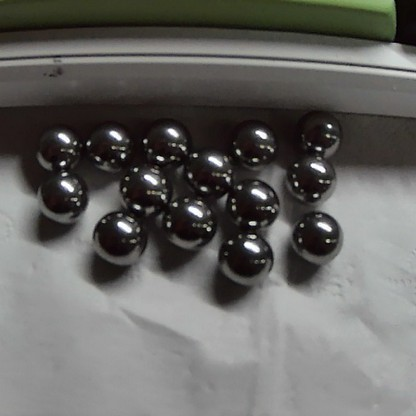ironball: (83, 211, 147, 270), (81, 112, 138, 171), (224, 178, 280, 229), (221, 229, 274, 281), (140, 113, 195, 163), (291, 206, 340, 260), (31, 122, 82, 173), (162, 197, 214, 244), (231, 116, 277, 168), (184, 142, 236, 187), (38, 174, 84, 221), (288, 157, 337, 200), (295, 104, 341, 149), (117, 160, 167, 200)
